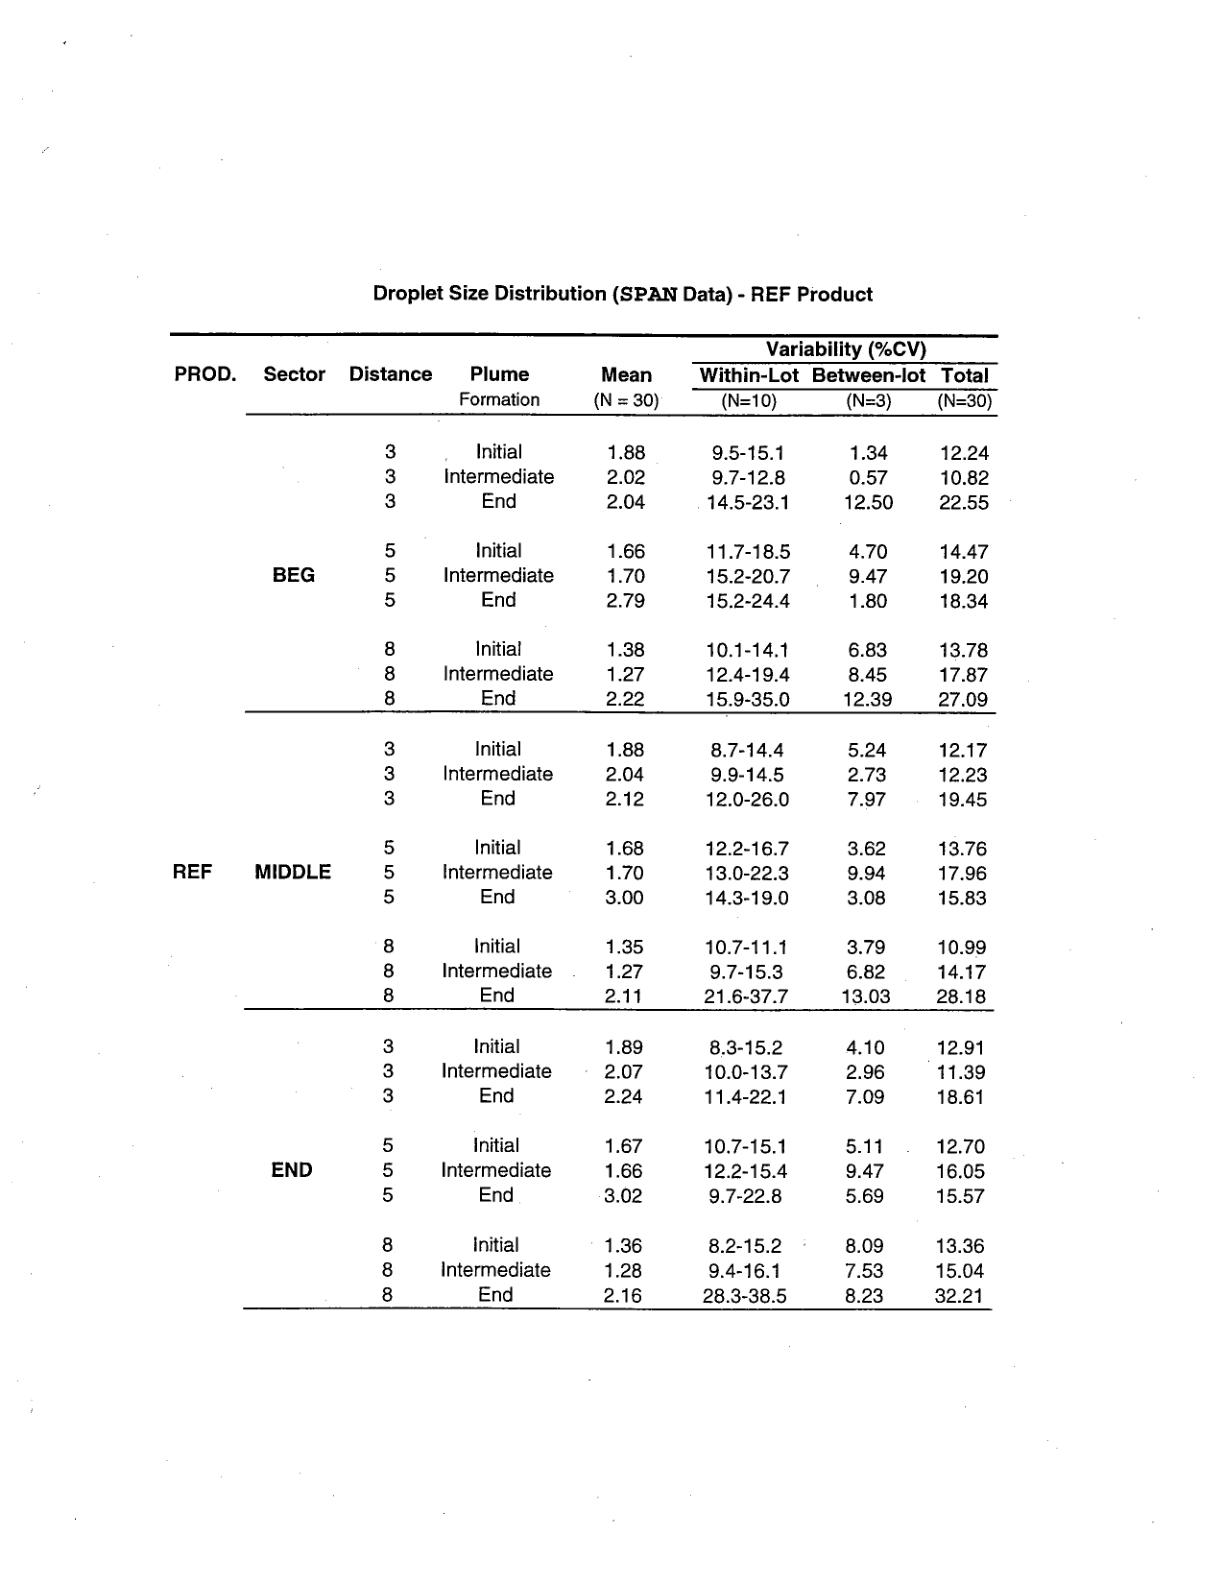partial_lined_merged_cells: (165, 327, 1005, 1317)
